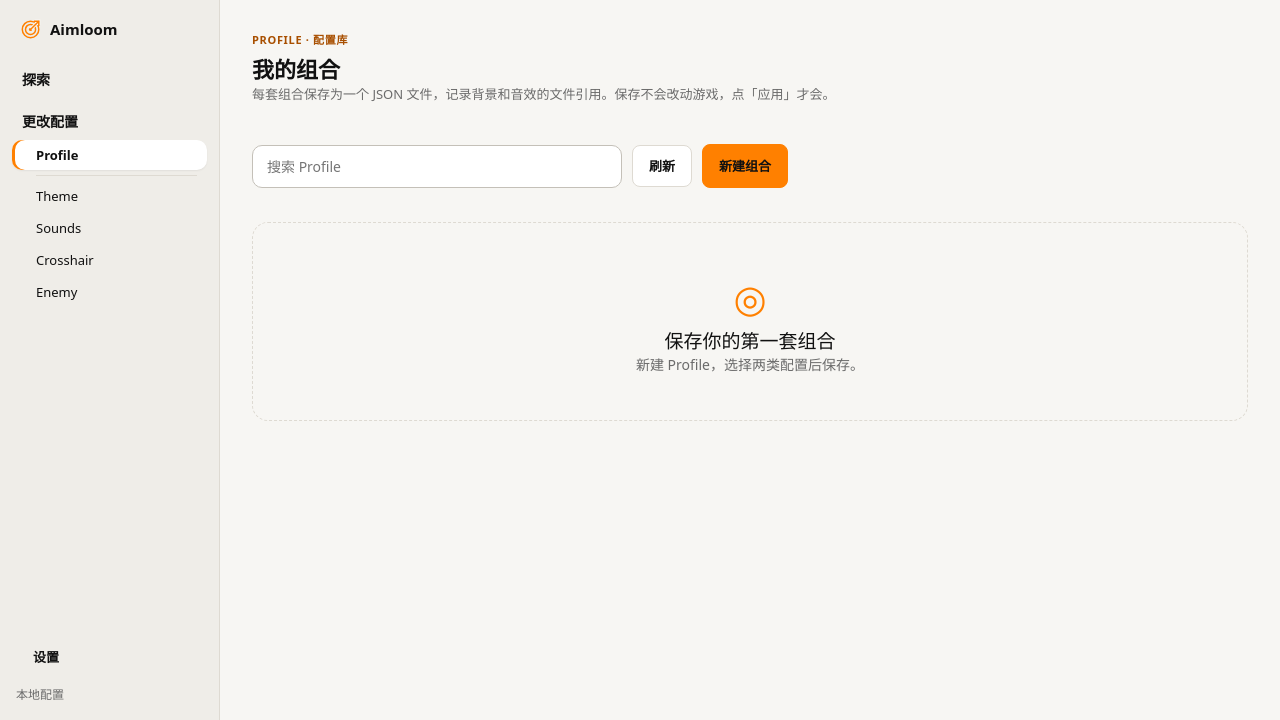
Test: the Profile editor cards › a new draft the game could not fill says 未选择 in words, with no orange outline
Click the button "新建组合".
click(745, 166)  # box [702,144,788,188]
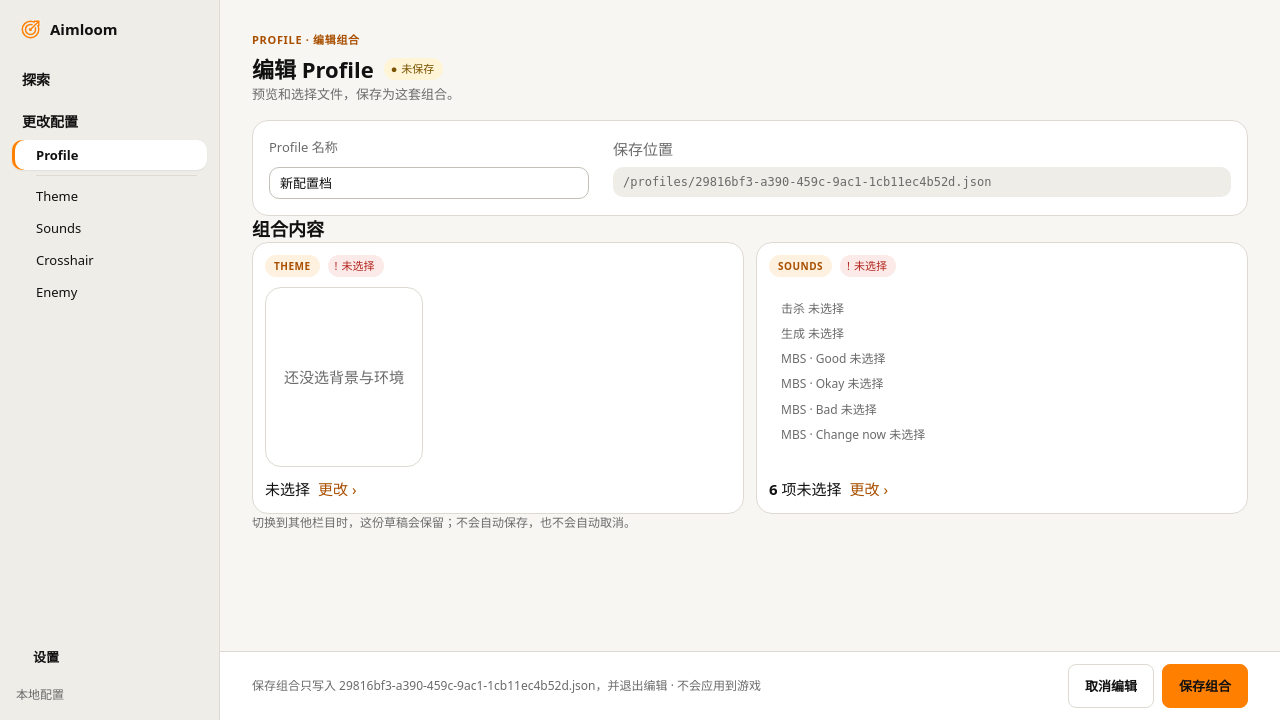
expect the field labelled "Profile 名称" is shown: met, box [269,167,589,199]
expect the 1st text "! 未选择" is shown: met, box [328,255,384,277]
expect the 2nd text "! 未选择" is shown: met, box [840,255,896,277]
// Nothing unchosen can be saved.
Click the button "保存组合".
click(1205, 686)  # box [1162,664,1248,708]
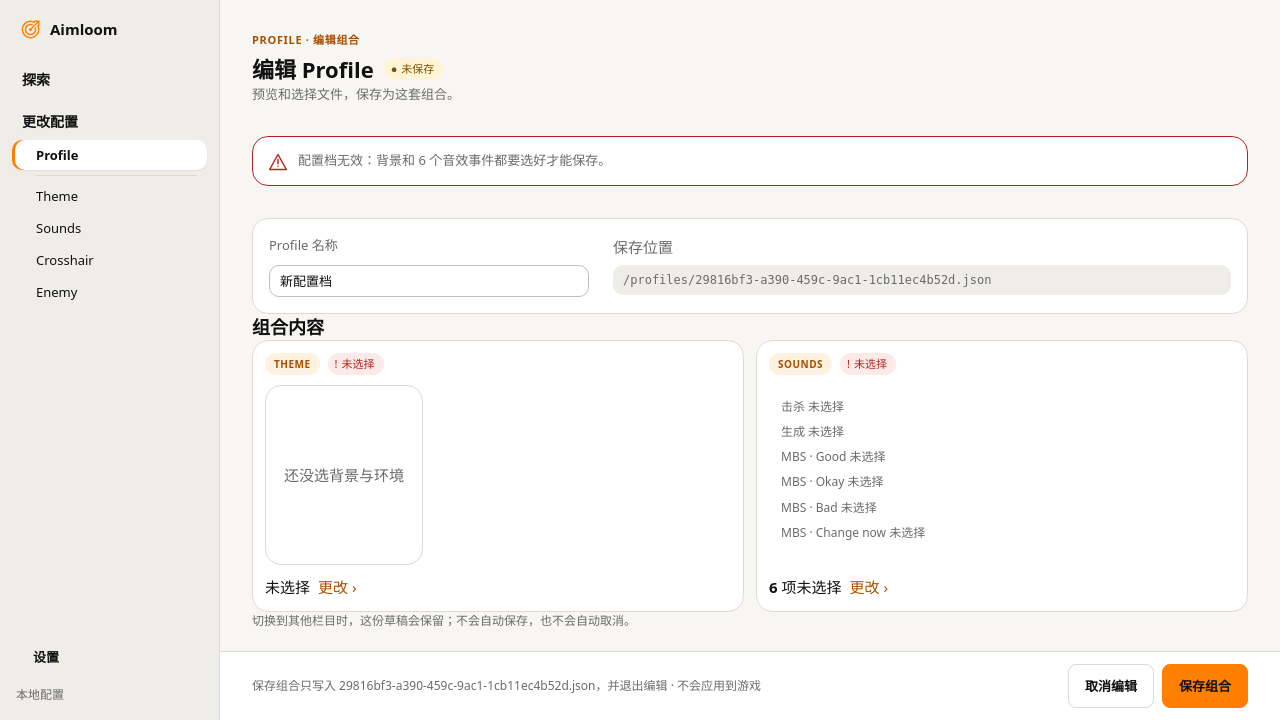
expect the text "配置档无效：背景和 6 个音效事件都要选好才能保存。" is shown: met, box [298,150,611,171]
